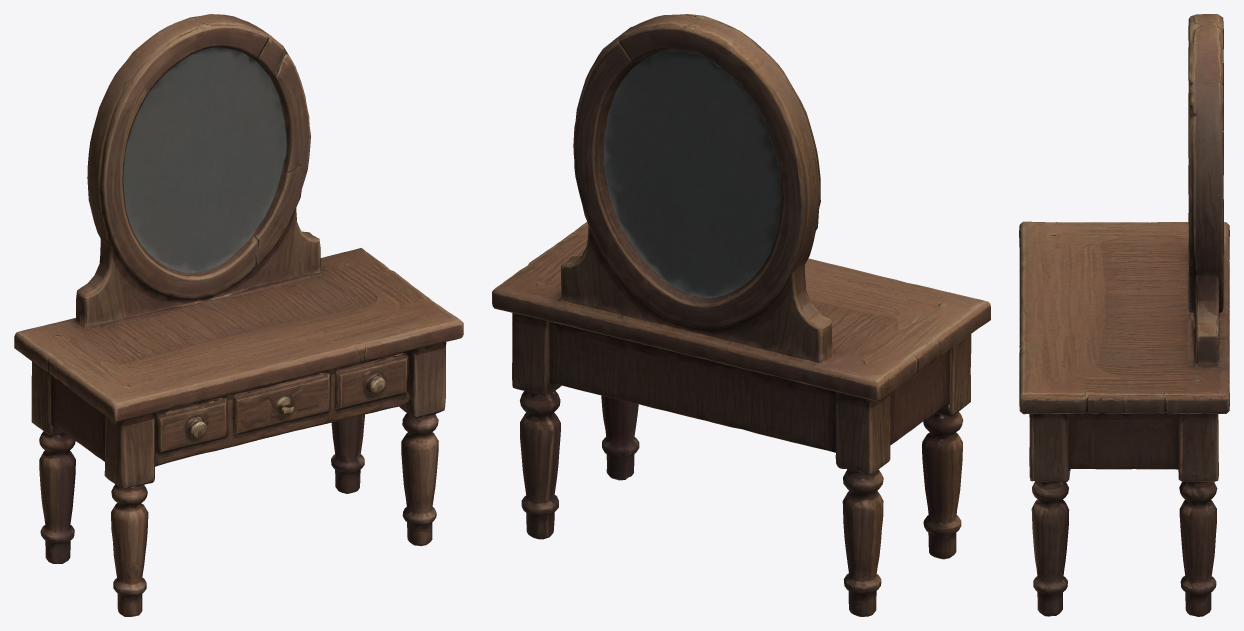
Rendered from Furn_VanityTable.fbx.
3 renders of one model, left to right at view 1: azimuth 30°, elevation 25°; view 2: azimuth 150°, elevation 25°; view 3: azimuth 270°, elevation 25°, orthographic. The views are drawn at different scales.
Visible parts, largest first — view 1: texture_mapping; view 2: texture_mapping; view 3: texture_mapping.
Part boxes in pixels (box(x1,y1,x2,y2)): texture_mapping: box(14, 14, 463, 616); texture_mapping: box(492, 14, 990, 616); texture_mapping: box(1019, 14, 1229, 616).
Size of the model in its own units: 0.7352 by 0.3716 by 1.
Materials: 1 (1 with a texture image).
